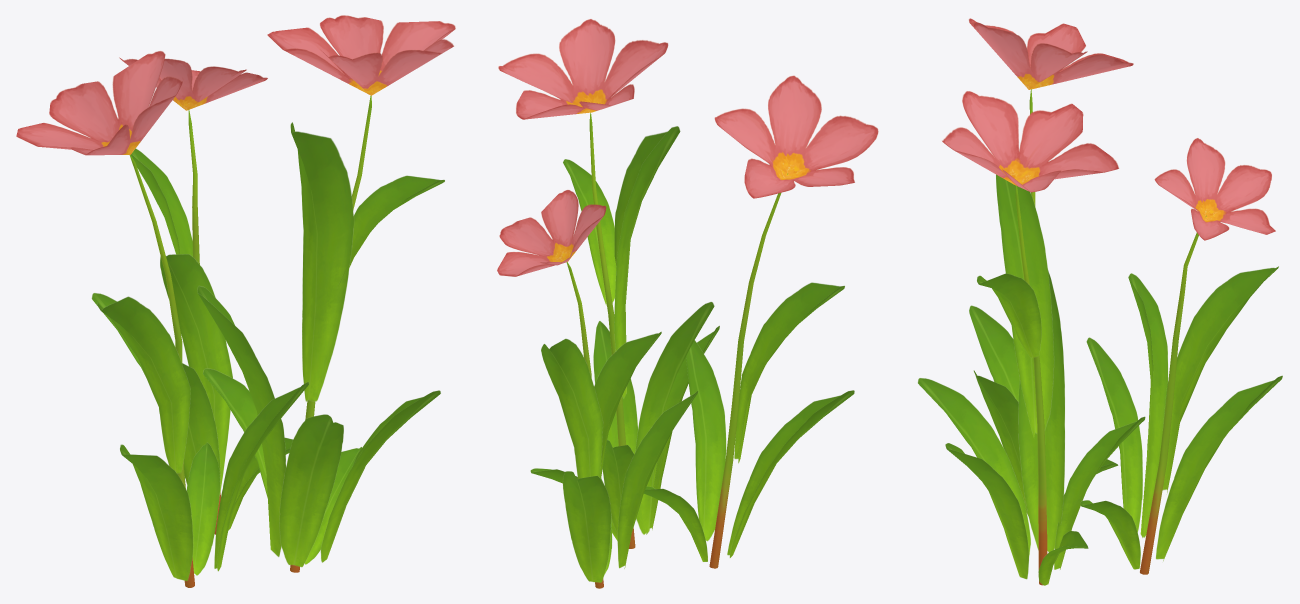
Rendered from Misc_HoloPlant_02.glb.
The picture shows the model from 3 angles, left to right: view 1: azimuth 30°, elevation 25°; view 2: azimuth 150°, elevation 25°; view 3: azimuth 270°, elevation 25°; orthographic projection. The views are drawn at different scales.
Parts seen in each view (by area): view 1: Misc_HoloPlant_02.001; view 2: Misc_HoloPlant_02.001; view 3: Misc_HoloPlant_02.001.
Part boxes in pixels (box(x1,y1,x2,y2)): Misc_HoloPlant_02.001: box(16, 15, 455, 587); Misc_HoloPlant_02.001: box(497, 19, 878, 588); Misc_HoloPlant_02.001: box(917, 18, 1282, 585).
Bounding box in the file's own units: 0.5434 × 0.6548 × 0.4411.
Materials: 2 (2 with a texture image).
